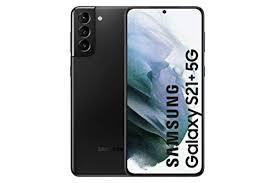Smartphone: (126, 3, 203, 175), (73, 6, 124, 175)
